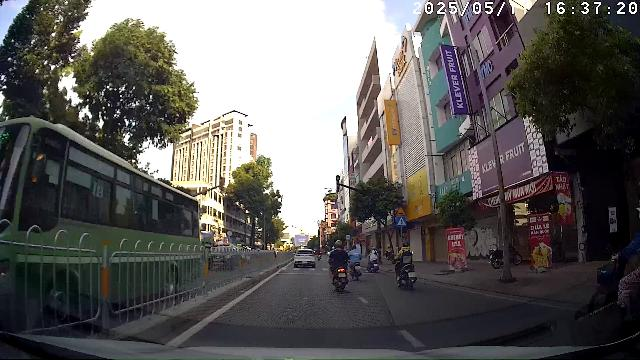423a-duong-nguoi-di-bo-sang-ngang-1: (396, 216, 407, 226)
